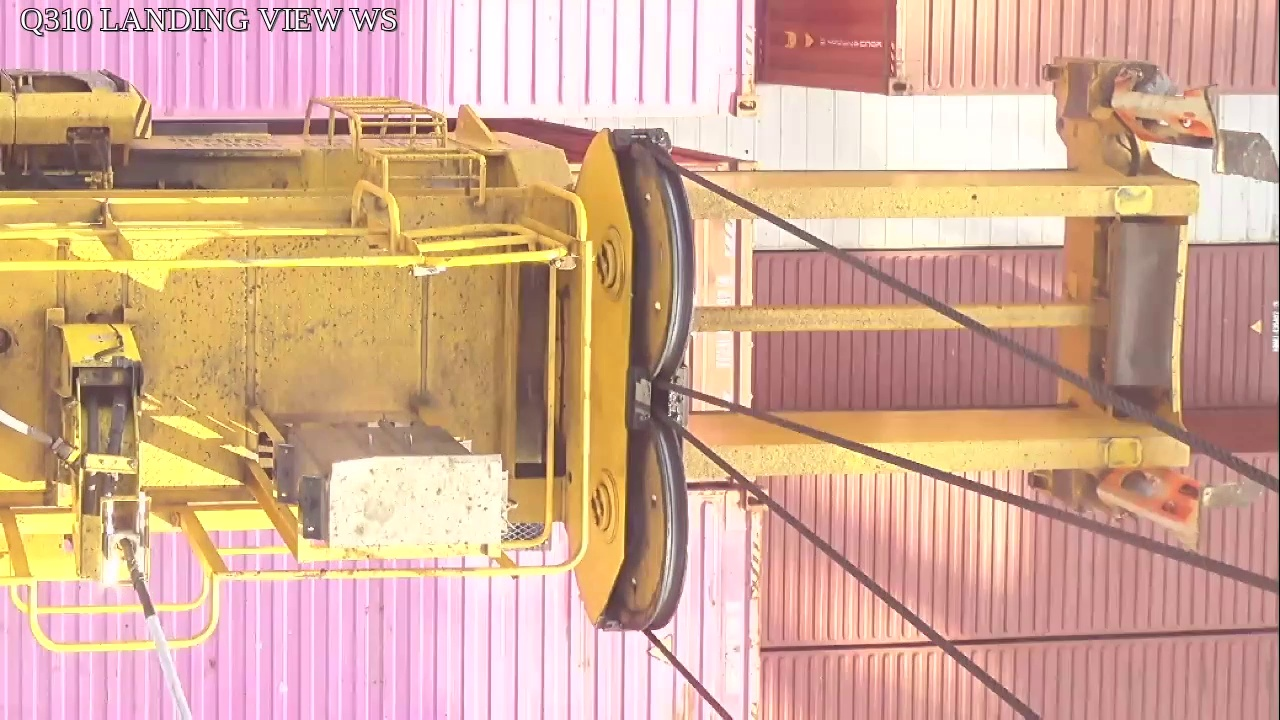right: (568, 126, 701, 630)
